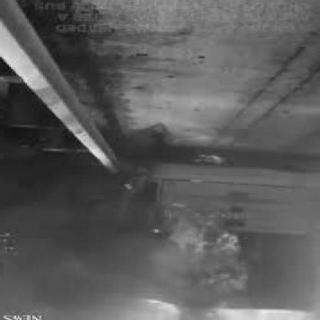Fire: (147, 188, 277, 310)
